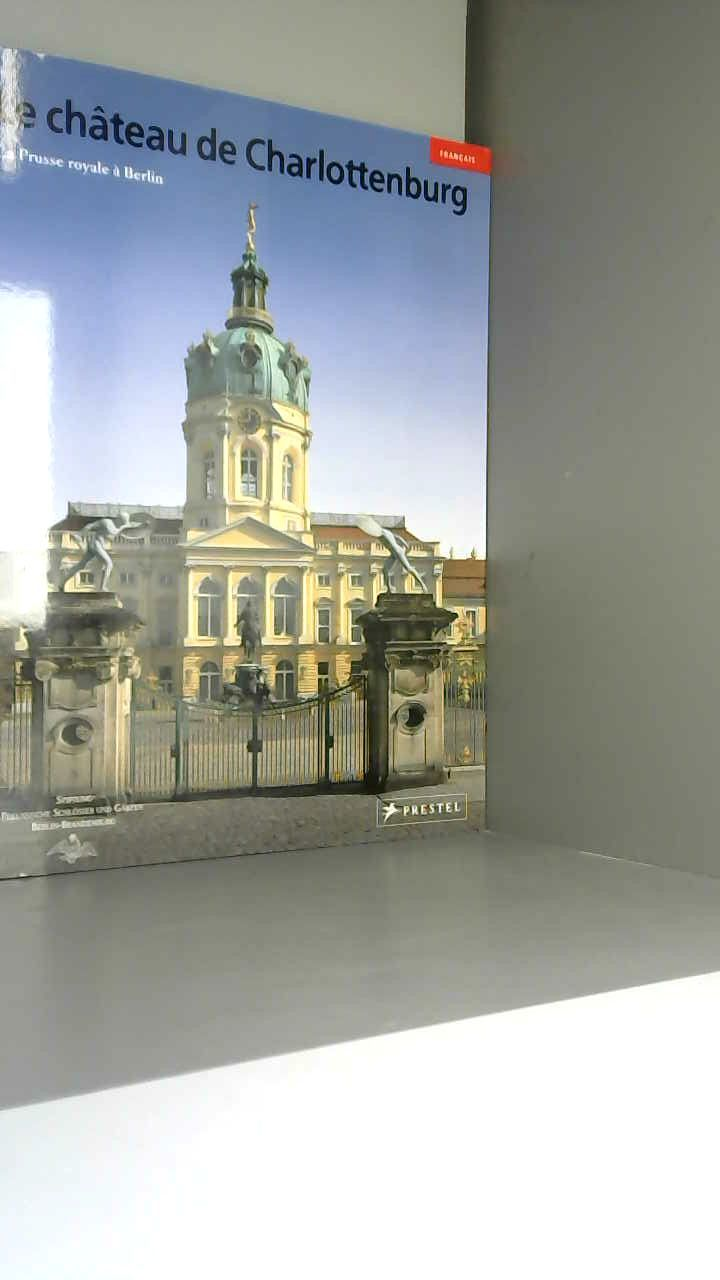book: (0, 36, 544, 902)
